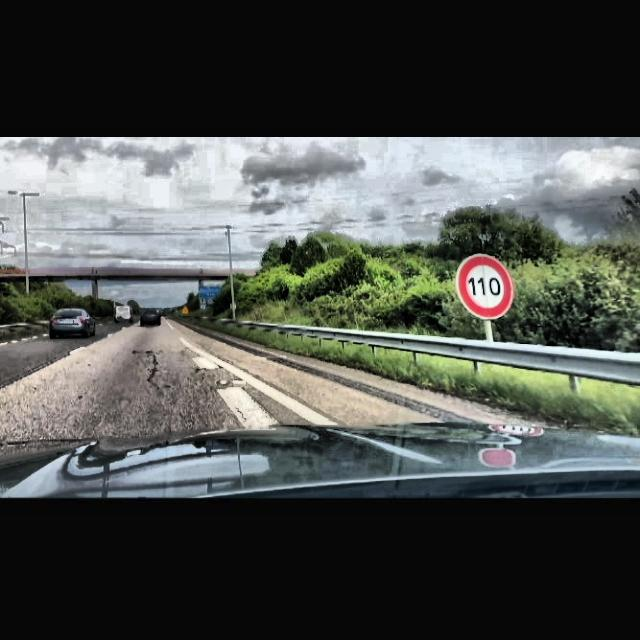speed_110: (457, 252, 513, 321)
